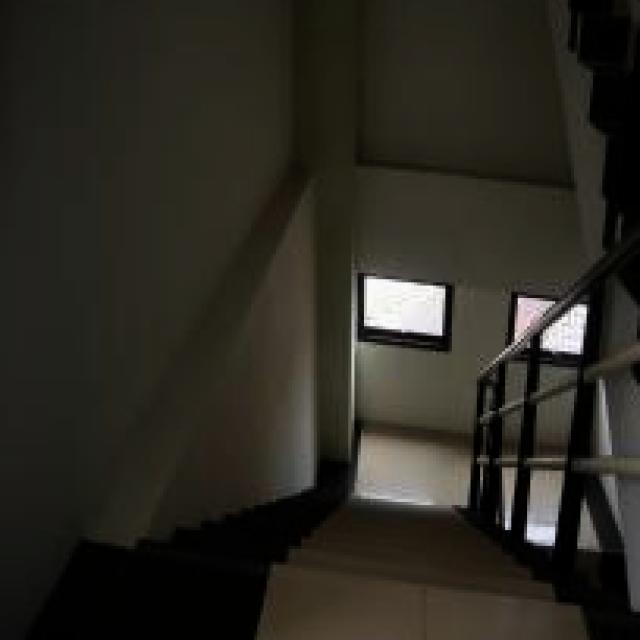downstair: (265, 503, 466, 638)
